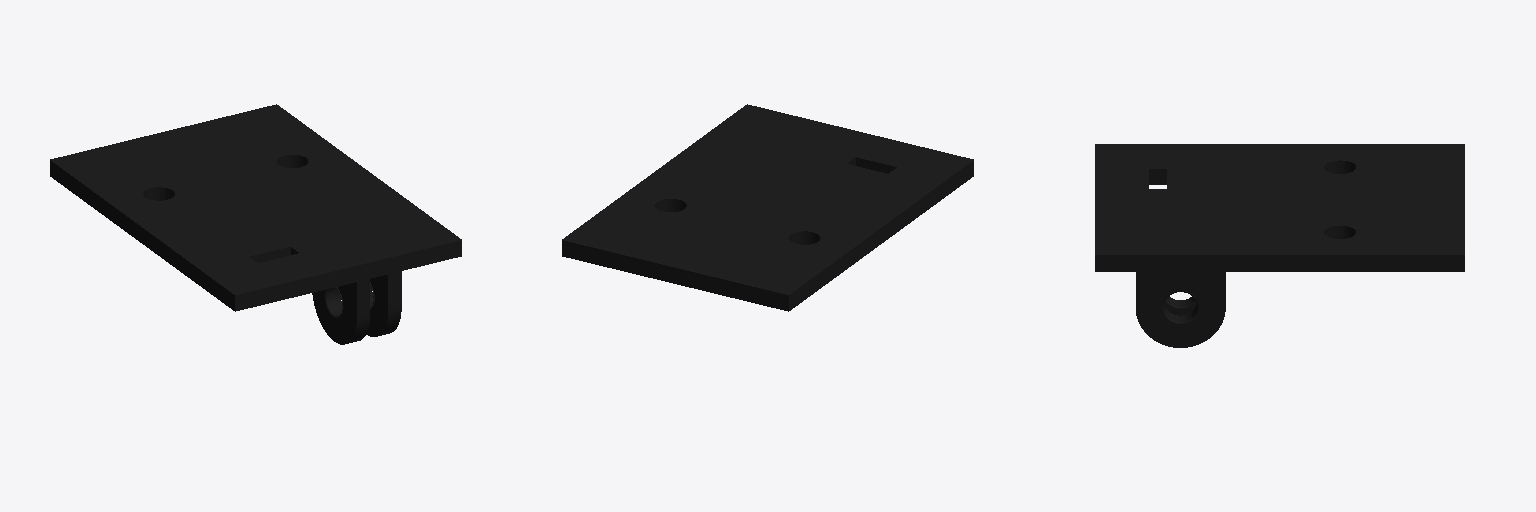
Rendered from Back.obj.
3 views of the same model, side by side, from view 1: azimuth 30°, elevation 25°; view 2: azimuth 150°, elevation 25°; view 3: azimuth 270°, elevation 25° (orthographic).
Visible parts, largest first — view 1: Back; view 2: Back; view 3: Back.
Boxes of the visible parts, box(x1,y1,x2,y2) form: Back: box(50, 104, 461, 344); Back: box(562, 104, 973, 311); Back: box(1095, 144, 1464, 347).
Bounding box in the file's own units: 43.6 × 20.6 × 61.6.